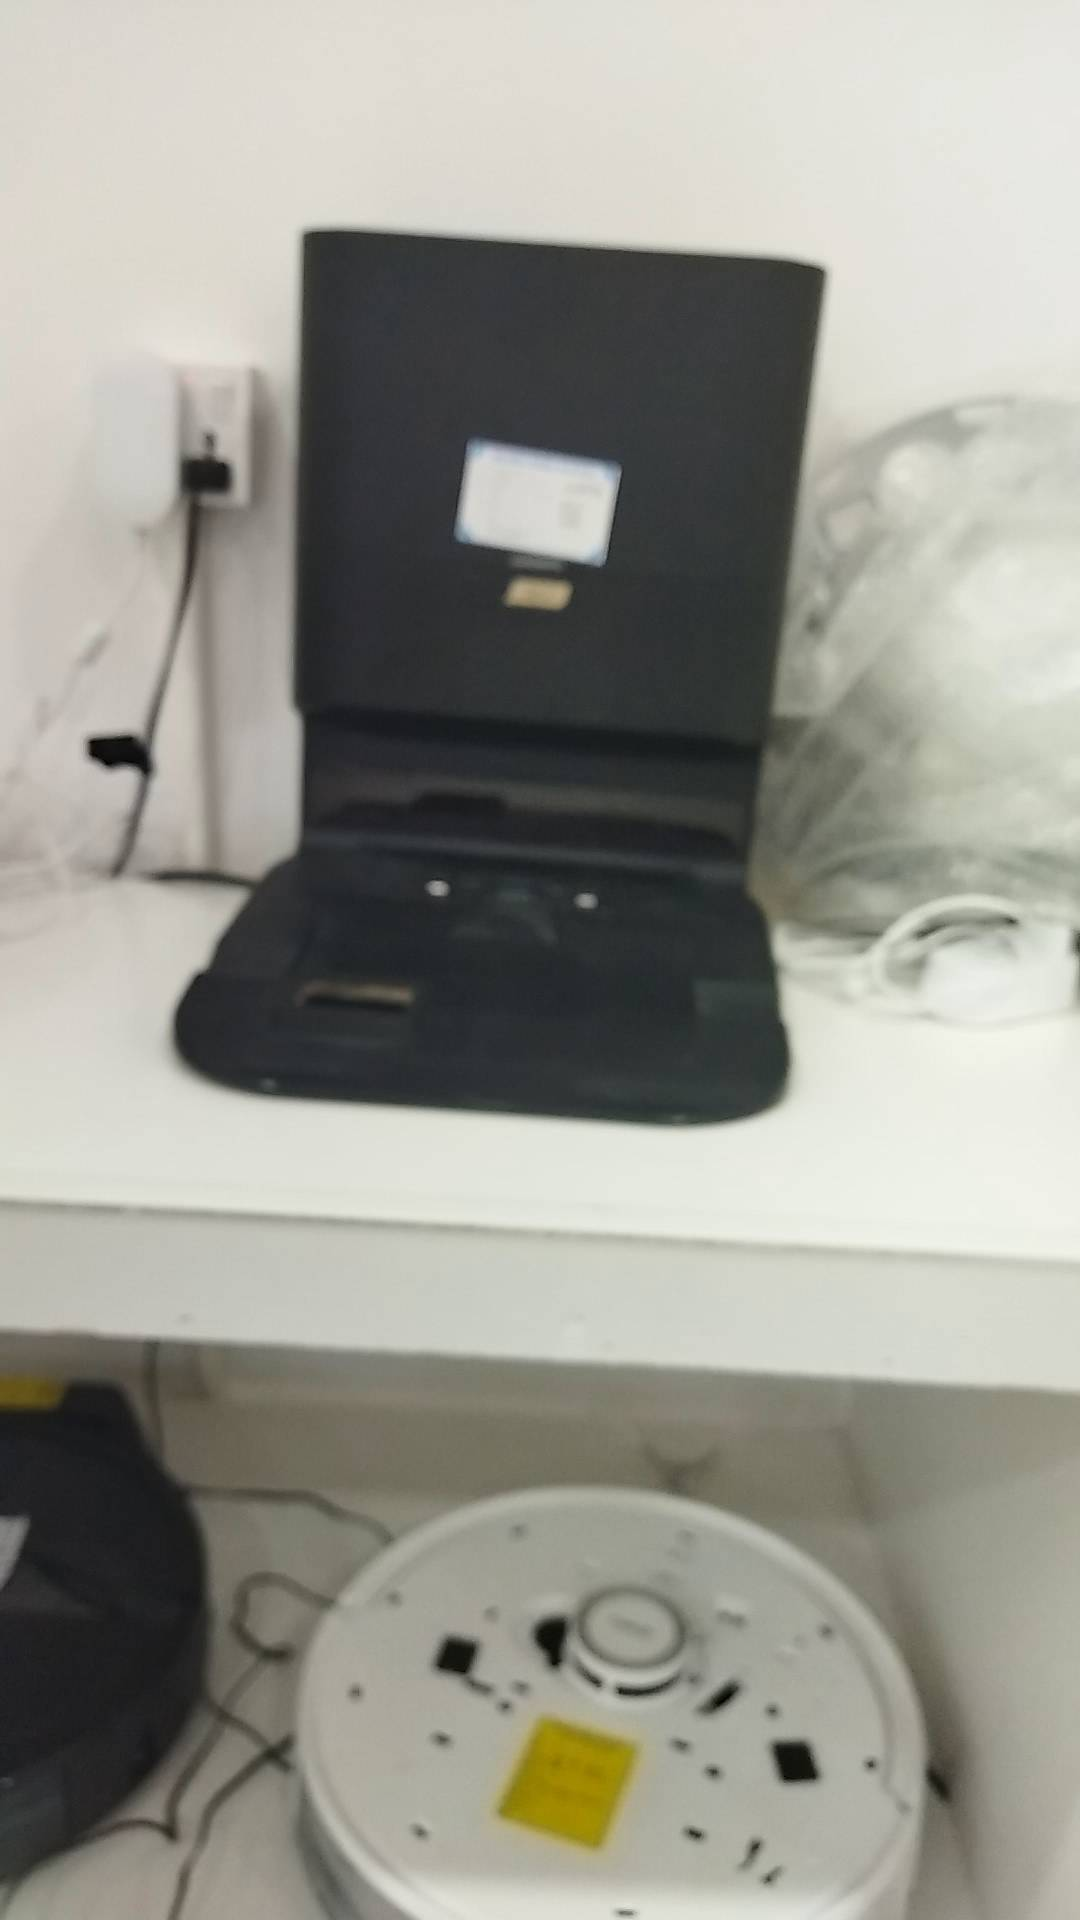dust collecting barrel: (175, 231, 829, 1127)
